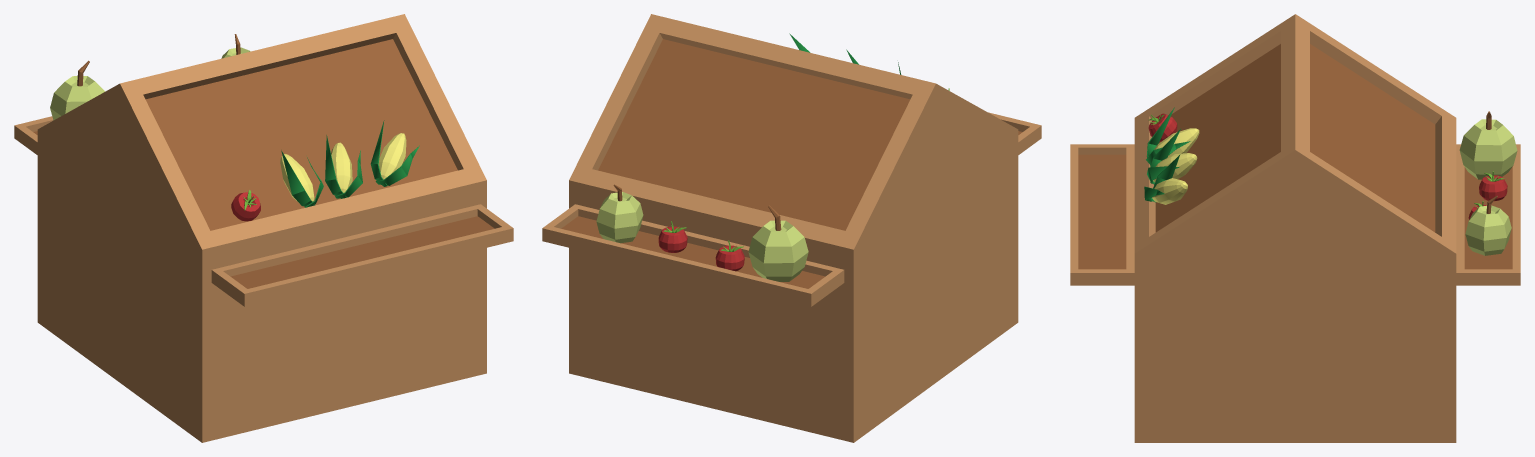
File: Stand_Wood.fbx
3 renders of one model, left to right at view 1: azimuth 30°, elevation 25°; view 2: azimuth 150°, elevation 25°; view 3: azimuth 270°, elevation 25°, orthographic. The views are drawn at different scales.
Visible parts, largest first — view 1: Stand_Wood; view 2: Stand_Wood; view 3: Stand_Wood.
Part boxes in pixels (x1=…): Stand_Wood: x1=14, y1=14, x2=513, y2=442; Stand_Wood: x1=542, y1=14, x2=1041, y2=442; Stand_Wood: x1=1070, y1=14, x2=1520, y2=442.
Bounding box in the file's own units: 115 × 116 × 162.
